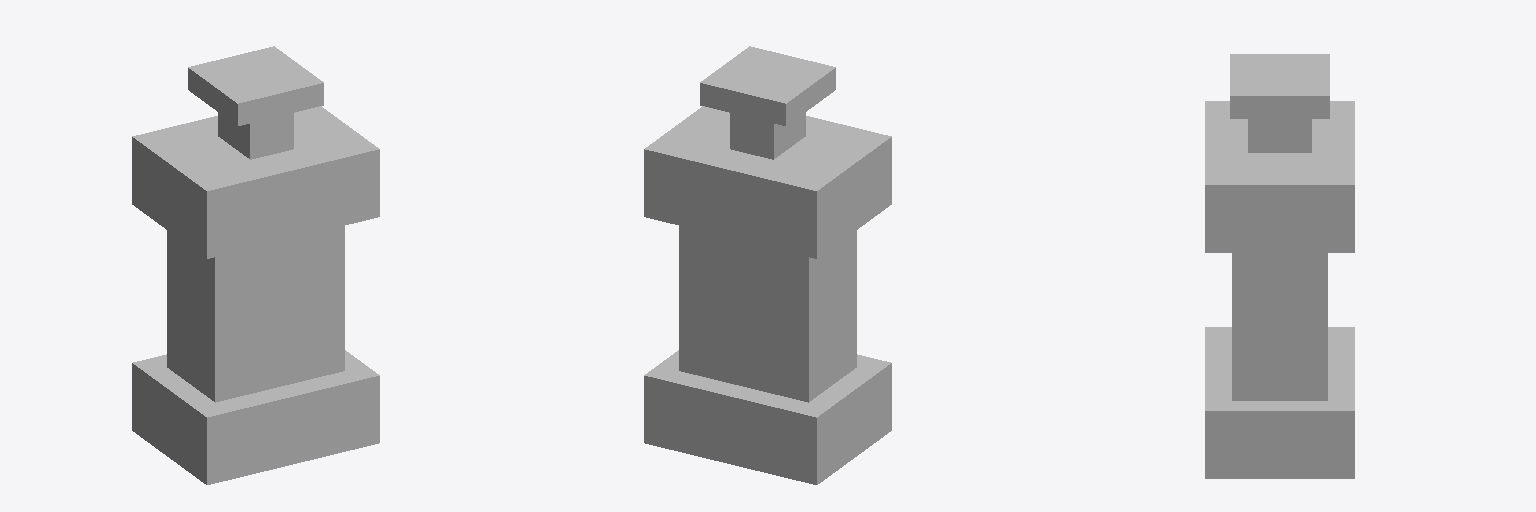
Rendered from bottle_novel1.obj.
3 renders of one model, left to right at view 1: azimuth 30°, elevation 25°; view 2: azimuth 150°, elevation 25°; view 3: azimuth 270°, elevation 25°, orthographic.
Parts seen in each view (by area): view 1: bottle_novel1; view 2: bottle_novel1; view 3: bottle_novel1.
Boxes of the visible parts, box(x1,y1,x2,y2) form: bottle_novel1: box(132, 46, 379, 484); bottle_novel1: box(644, 46, 891, 484); bottle_novel1: box(1205, 54, 1354, 478).
Size of the model in its own units: 0.5 by 1 by 0.375.